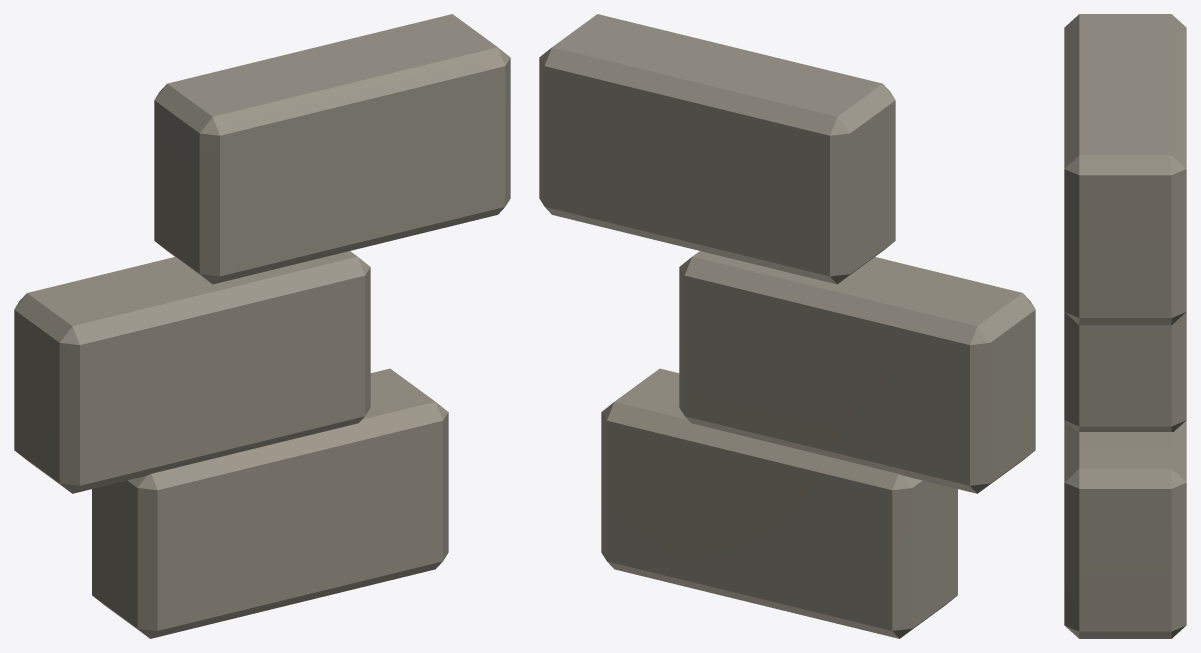
File: Brick_lvl2_02.fbx
3 renders of one model, left to right at view 1: azimuth 30°, elevation 25°; view 2: azimuth 150°, elevation 25°; view 3: azimuth 270°, elevation 25°, orthographic.
Visible parts, largest first — view 1: Cube.087; view 2: Cube.087; view 3: Cube.087.
Part boxes in pixels (x1,y1,x2,y2): Cube.087: (14,14,510,638); Cube.087: (539,14,1035,638); Cube.087: (1064,14,1186,638).
Bounding box in the file's own units: 1.18 × 1.26 × 0.2726.
